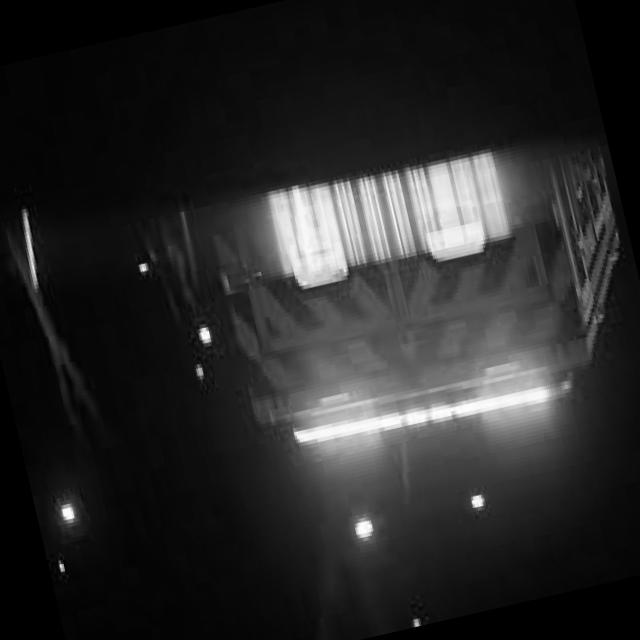ambulance: (175, 201, 640, 599)
